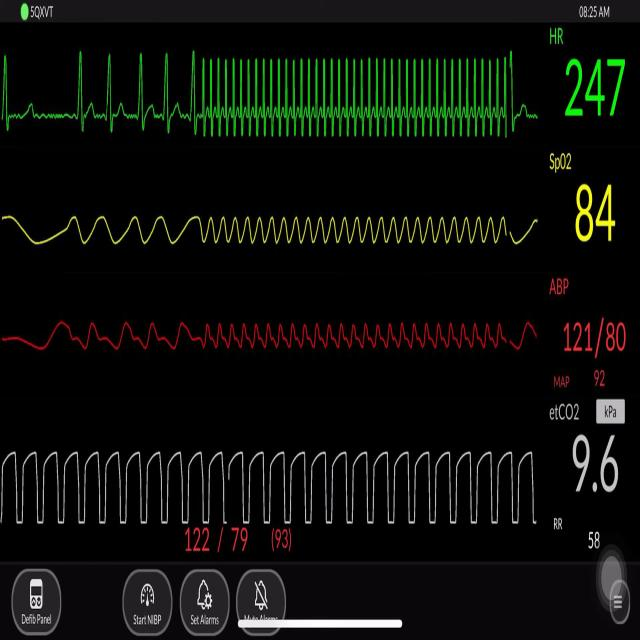danger: (195, 45, 517, 150)
